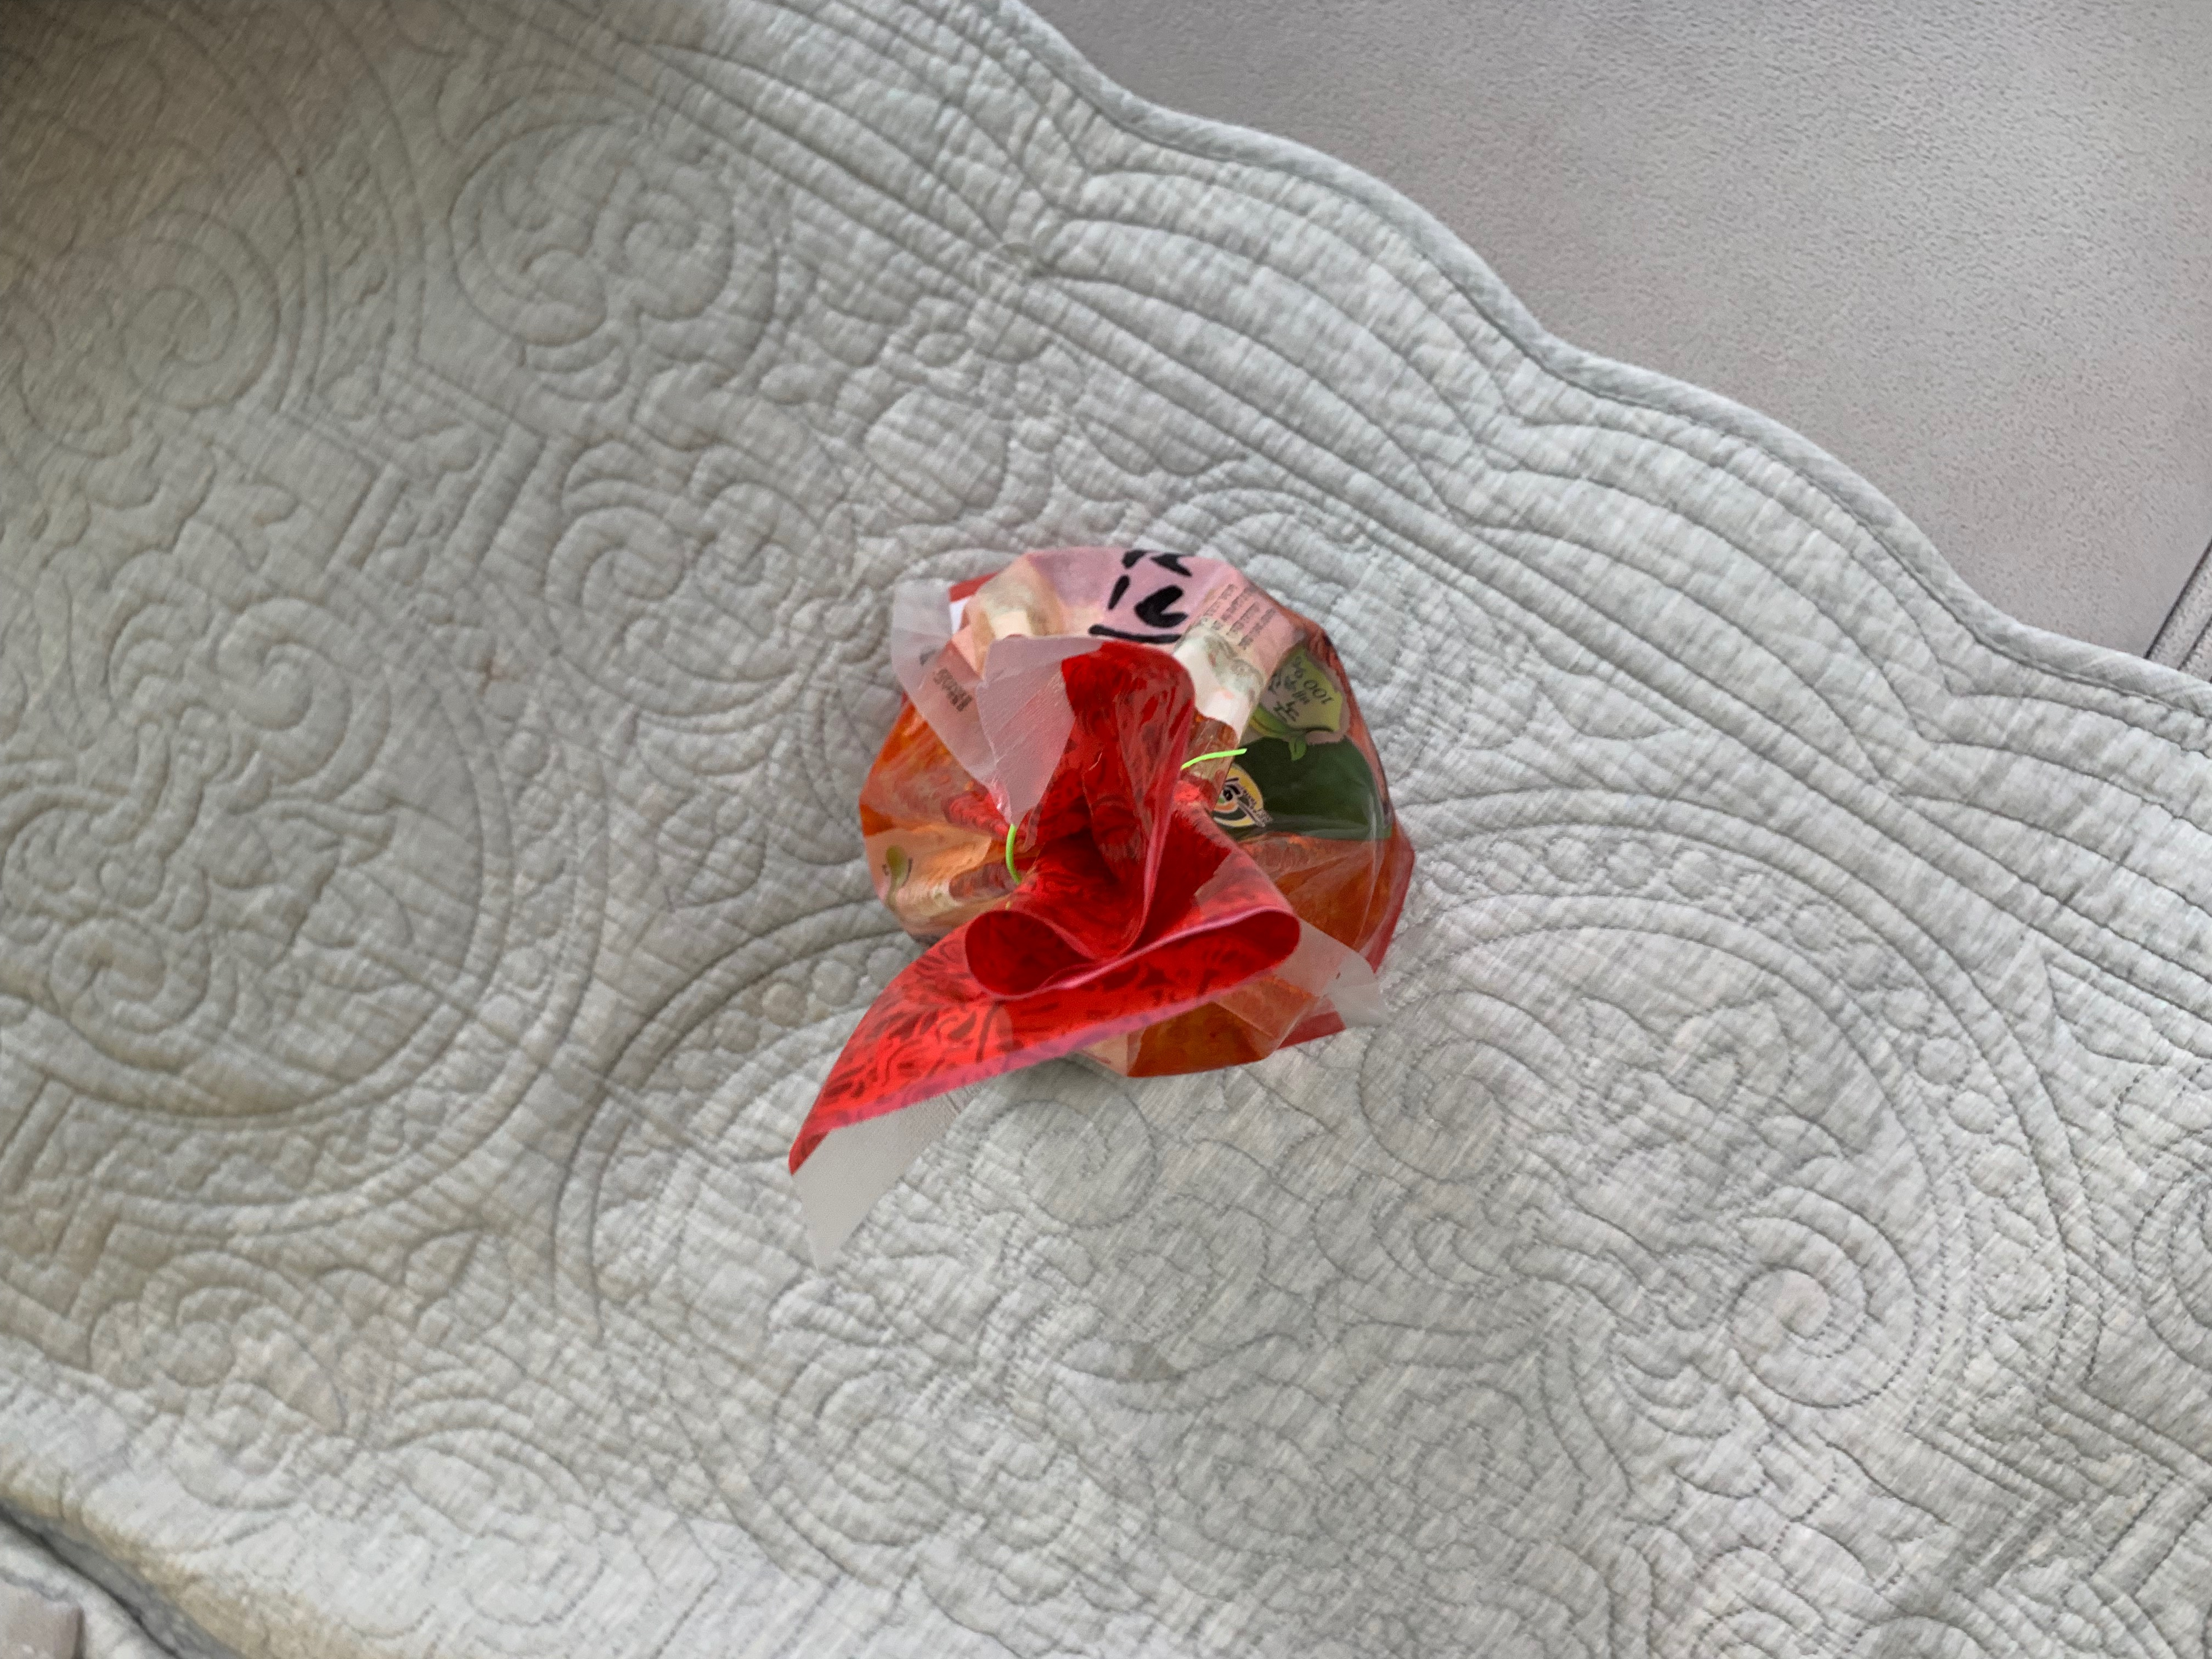kimchi: (860, 549, 1420, 1077)
